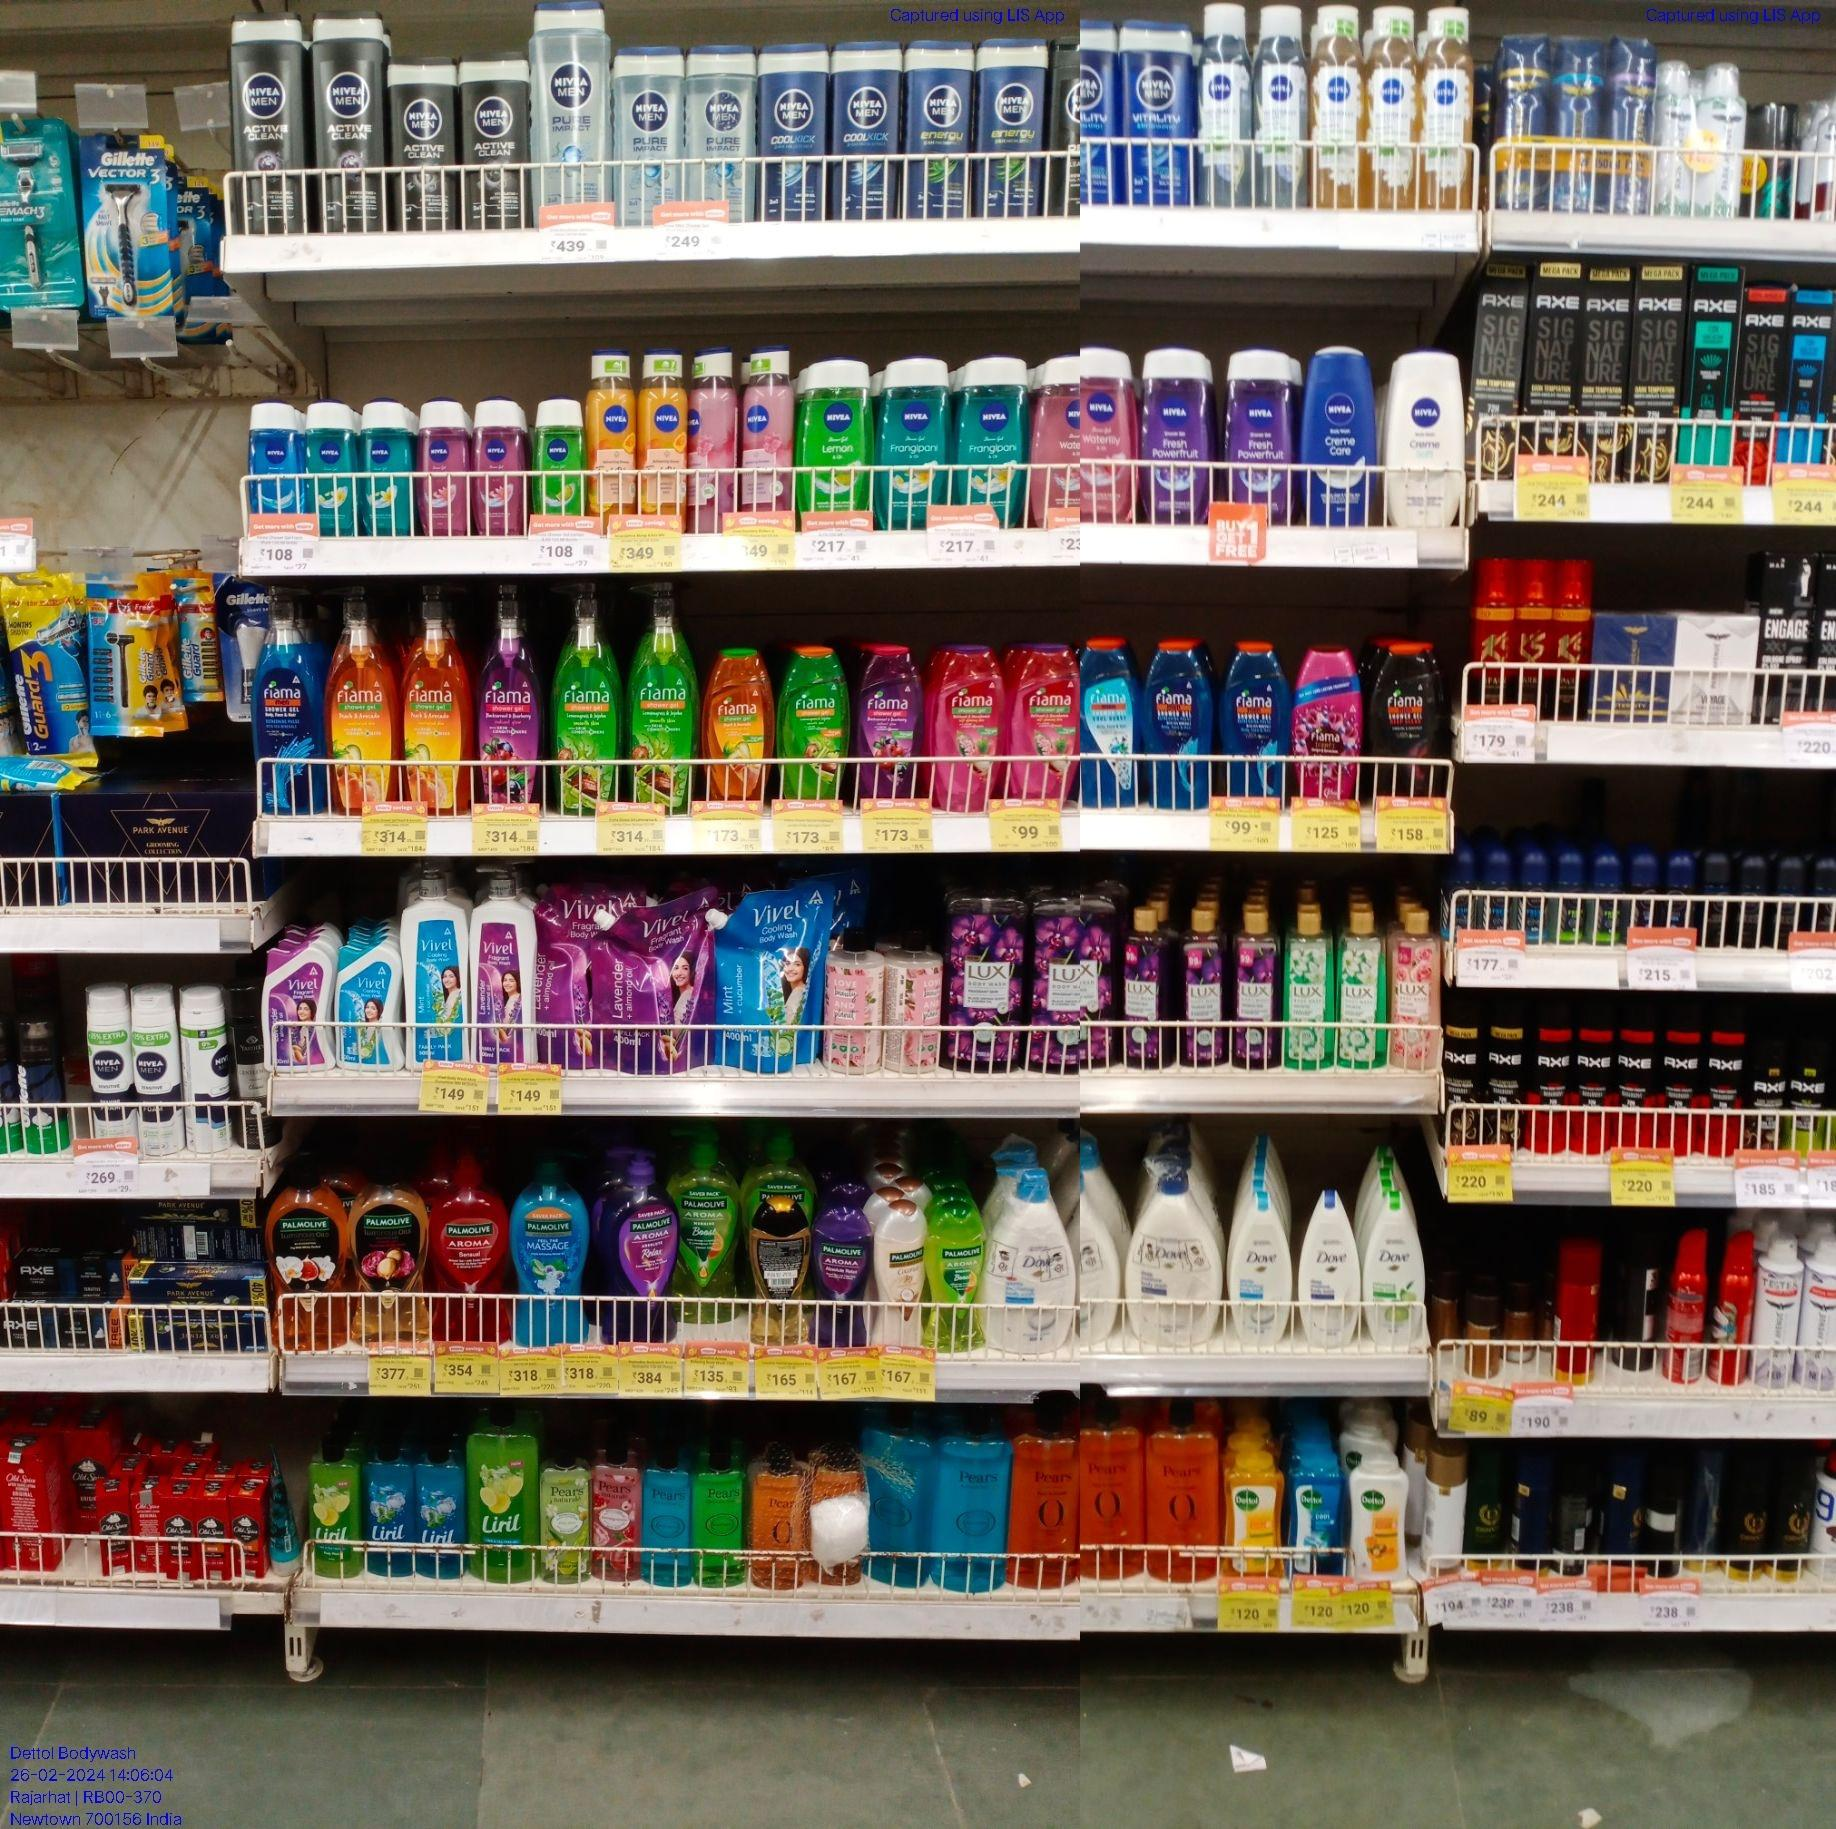Fiama_Shower_Gel_Lemongrass_and_Jojoba_250ML: (782, 652, 848, 799)
Fiama_Shower_Gel_Patchouli_and_Macadamia_250ML: (936, 647, 1000, 809), (1015, 648, 1080, 802)
Fiama_Shower_Gel_Peach_and_Avocado_250ML: (705, 647, 772, 804)
Lux_Black_Orchid_Scent_and_Juniper_Oil_Body_Wash_245ML: (1121, 906, 1166, 1070), (1231, 911, 1275, 1069), (1181, 906, 1223, 1065)
Lux_Body_Wash_Skin_Detox_Freesia_Scent_and_Alove_Vera_245ML: (1285, 911, 1333, 1067), (1342, 909, 1390, 1065)
Nivea_Creme_Care_Body_Wash_250ML: (1305, 348, 1372, 523)
Nivea_Creme_Soft_Body_Wash_250ML: (1390, 353, 1464, 528)
Nivea_Shower_Gel_Frangipani_and_Oil_250ML: (879, 357, 952, 529), (963, 357, 1027, 526)
Nivea_Shower_Gel_Fresh_Powerfruit_250ML: (1139, 345, 1211, 521), (1223, 348, 1293, 524)
Nivea_Shower_Gel_Lemon_and_Oil_250ML: (802, 358, 874, 511)
